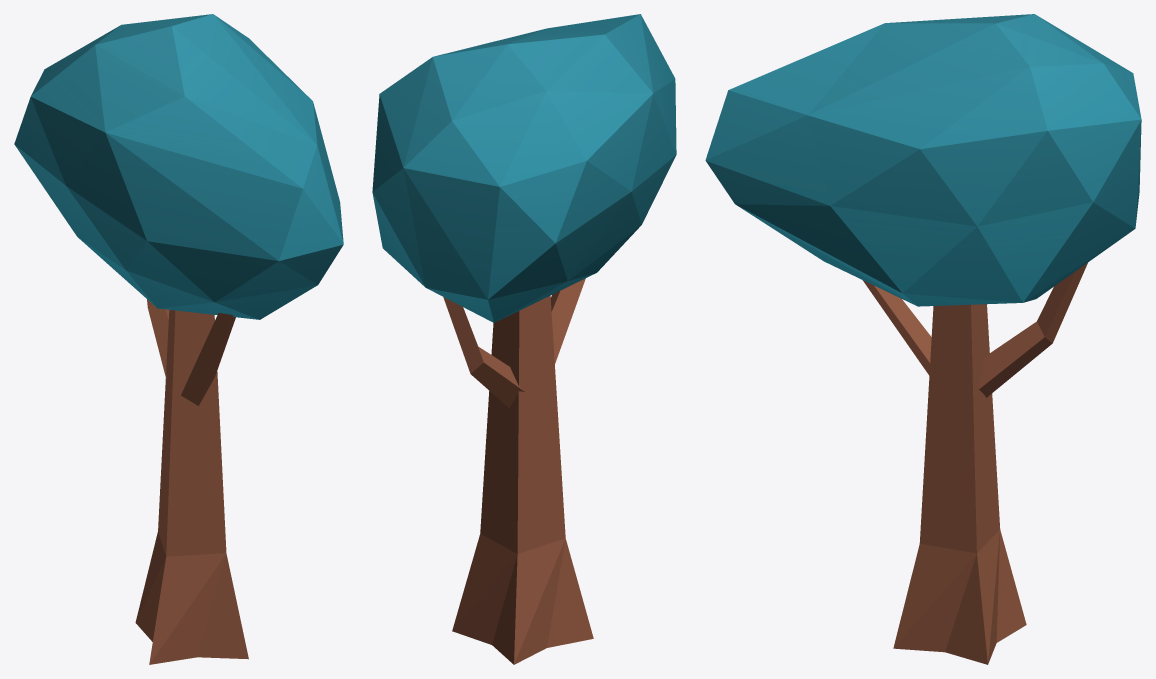
The model's file is Tree_37_gradient_blue_pal.fbx.
3 renders of one model, left to right at view 1: azimuth 30°, elevation 25°; view 2: azimuth 150°, elevation 25°; view 3: azimuth 270°, elevation 25°, orthographic.
Parts seen in each view (by area): view 1: Tree_37_gradient_blue_pal; view 2: Tree_37_gradient_blue_pal; view 3: Tree_37_gradient_blue_pal.
Part boxes in pixels (box(x1,y1,x2,y2)): Tree_37_gradient_blue_pal: box(14, 14, 343, 664); Tree_37_gradient_blue_pal: box(372, 14, 676, 664); Tree_37_gradient_blue_pal: box(705, 14, 1141, 664).
Size of the model in its own units: 93.74 by 233 by 151.
